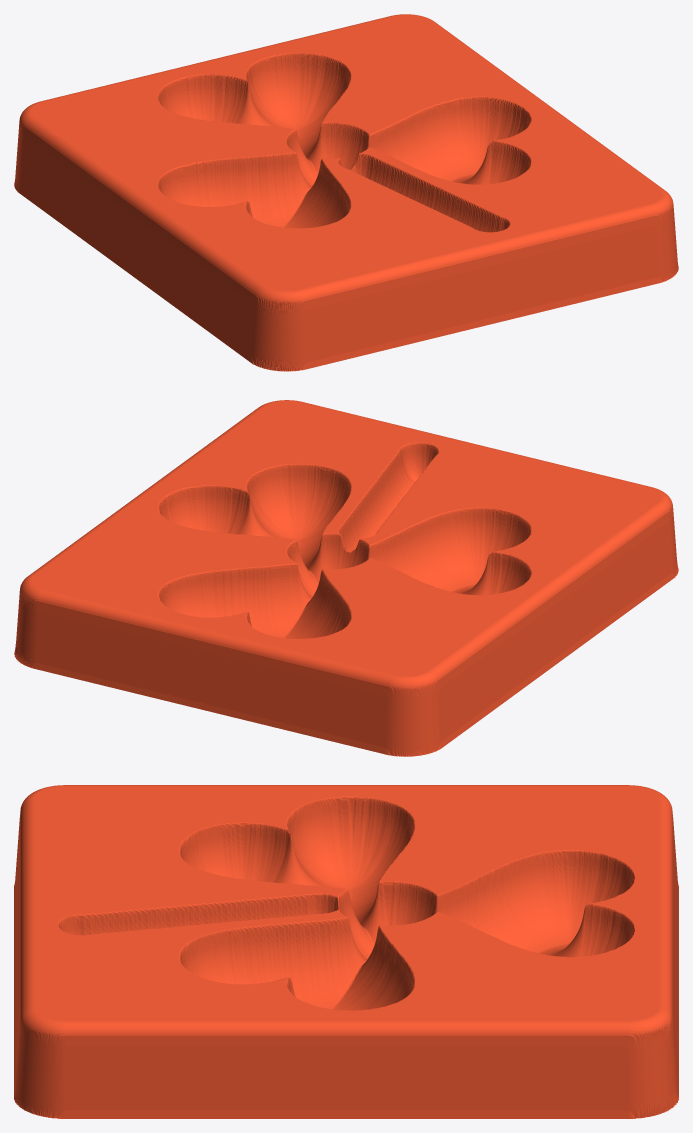
File: mold.glb
3 views of the same model, one above another, from view 1: azimuth 30°, elevation 25°; view 2: azimuth 150°, elevation 25°; view 3: azimuth 270°, elevation 25° (orthographic). The views are drawn at different scales.
Visible parts, largest first — view 1: geometry_0; view 2: geometry_0; view 3: geometry_0.
Boxes of the visible parts, x1,y1,x2,y2 form: geometry_0: [14, 14, 678, 371]; geometry_0: [14, 400, 678, 756]; geometry_0: [14, 785, 678, 1118].
Bounding box in the file's own units: 0.1054 × 0.0175 × 0.1178.
